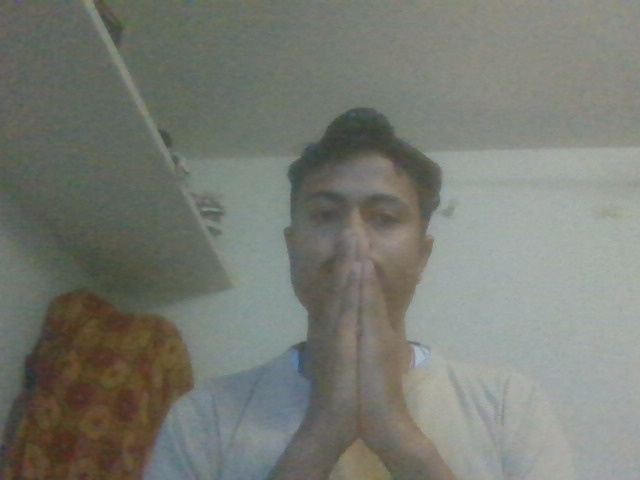Namaste: (295, 226, 420, 449)
